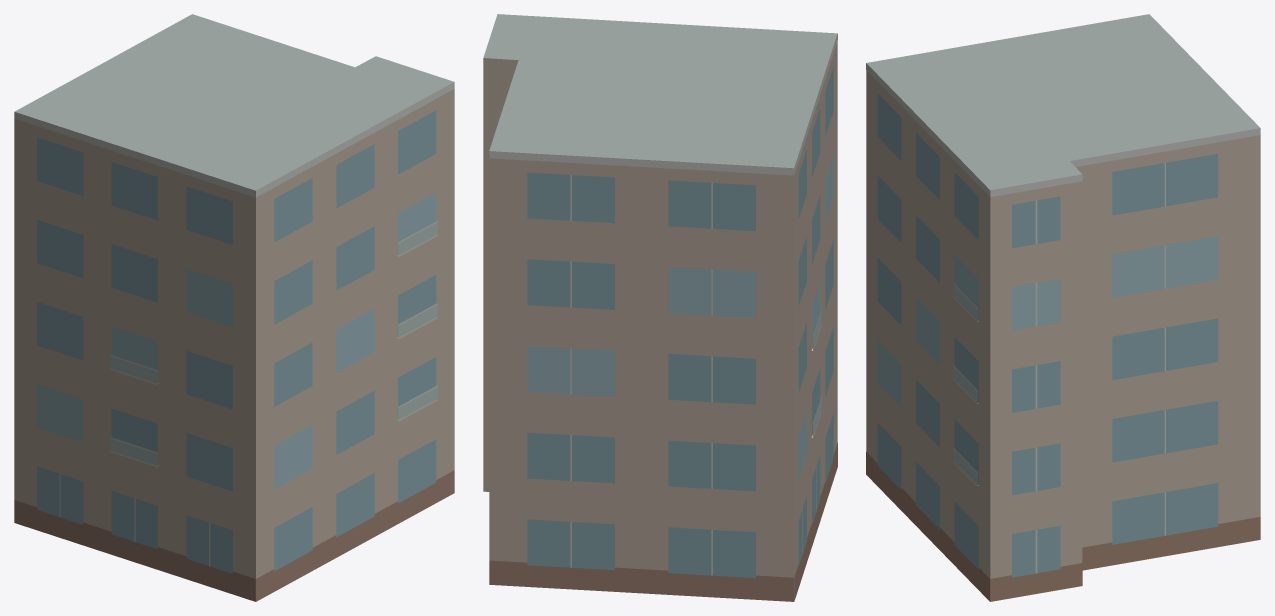
Rendered from survey-upis-32908702.glb.
The picture shows the model from 3 angles, left to right: view 1: azimuth 30°, elevation 25°; view 2: azimuth 150°, elevation 25°; view 3: azimuth 270°, elevation 25°; orthographic projection. The views are drawn at different scales.
Visible parts, largest first — view 1: survey-upis-32908702.tmp; view 2: survey-upis-32908702.tmp; view 3: survey-upis-32908702.tmp.
Boxes of the visible parts, x1=… form: survey-upis-32908702.tmp: x1=14, y1=14, x2=454, y2=601; survey-upis-32908702.tmp: x1=483, y1=14, x2=837, y2=601; survey-upis-32908702.tmp: x1=866, y1=14, x2=1260, y2=601.
Size of the model in its own units: 13.37 by 14.55 by 12.65.
